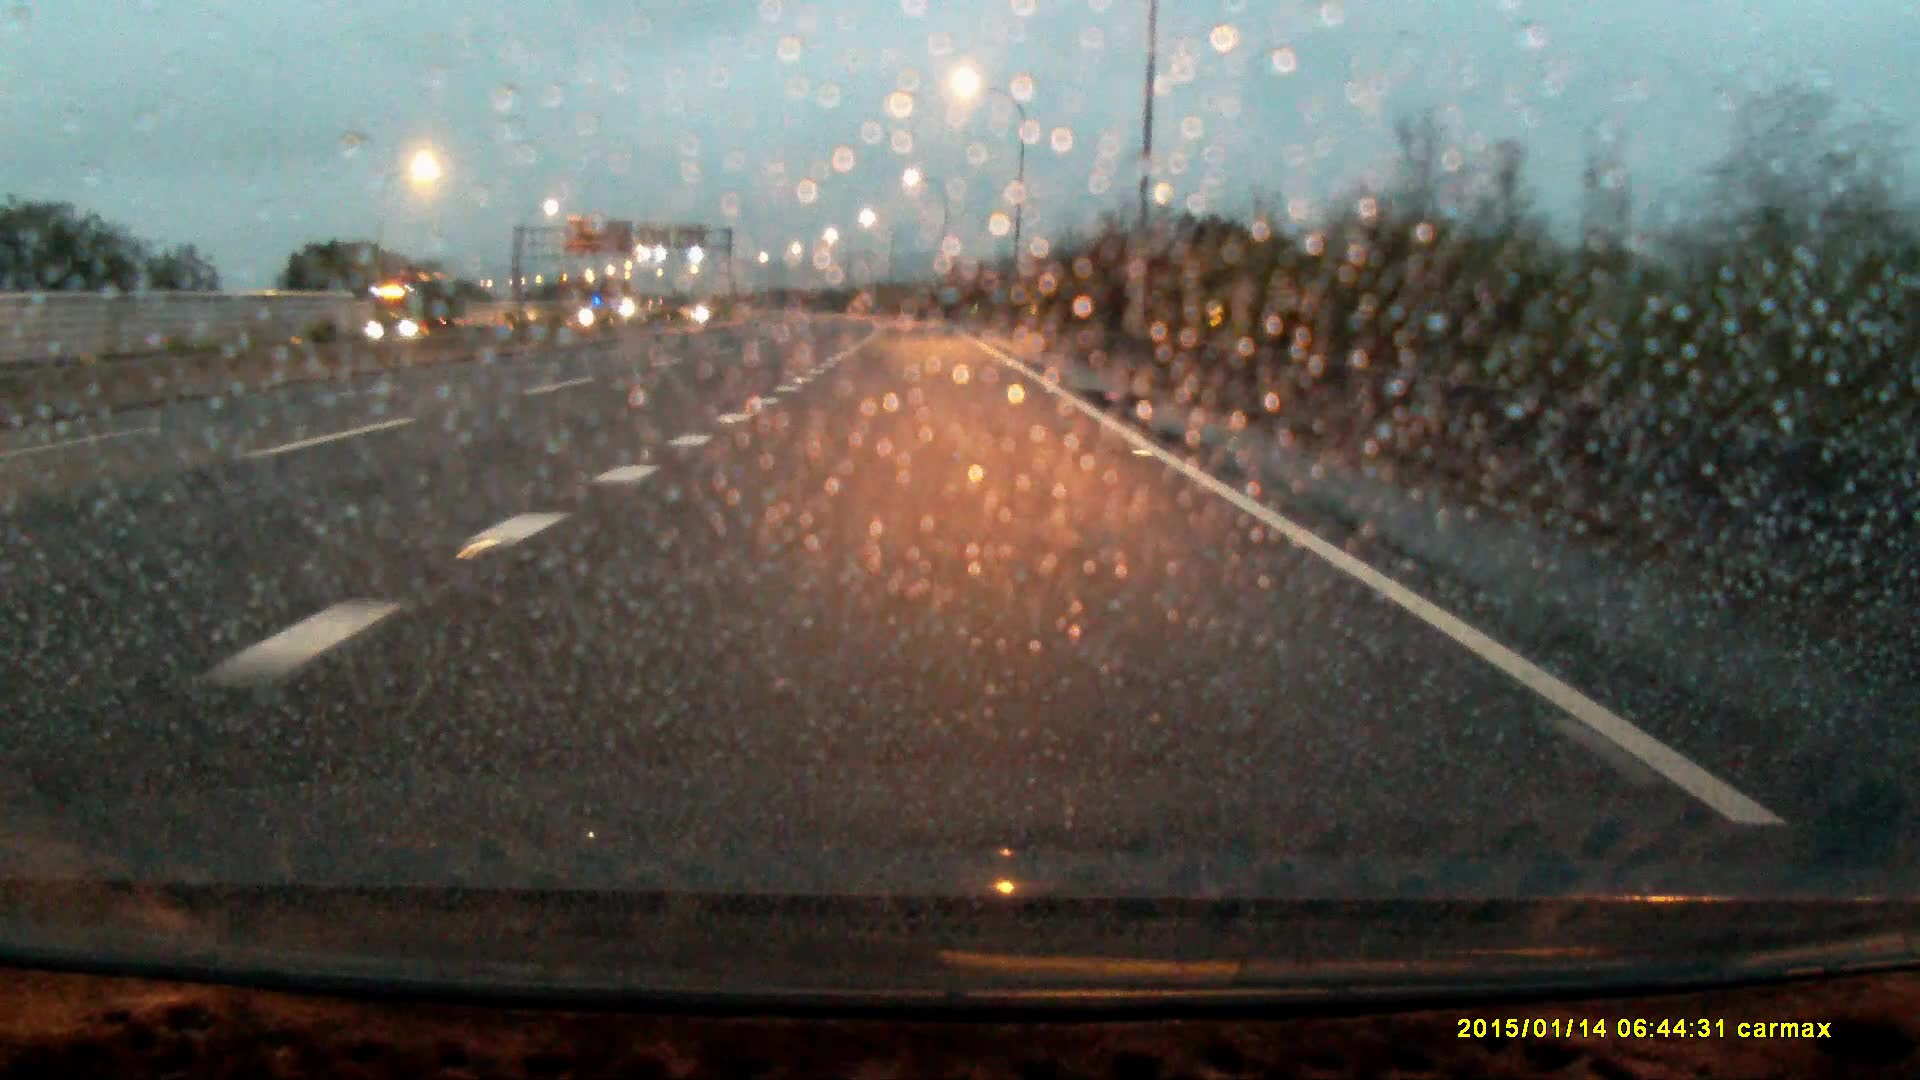vehicle: (365, 284, 443, 345)
